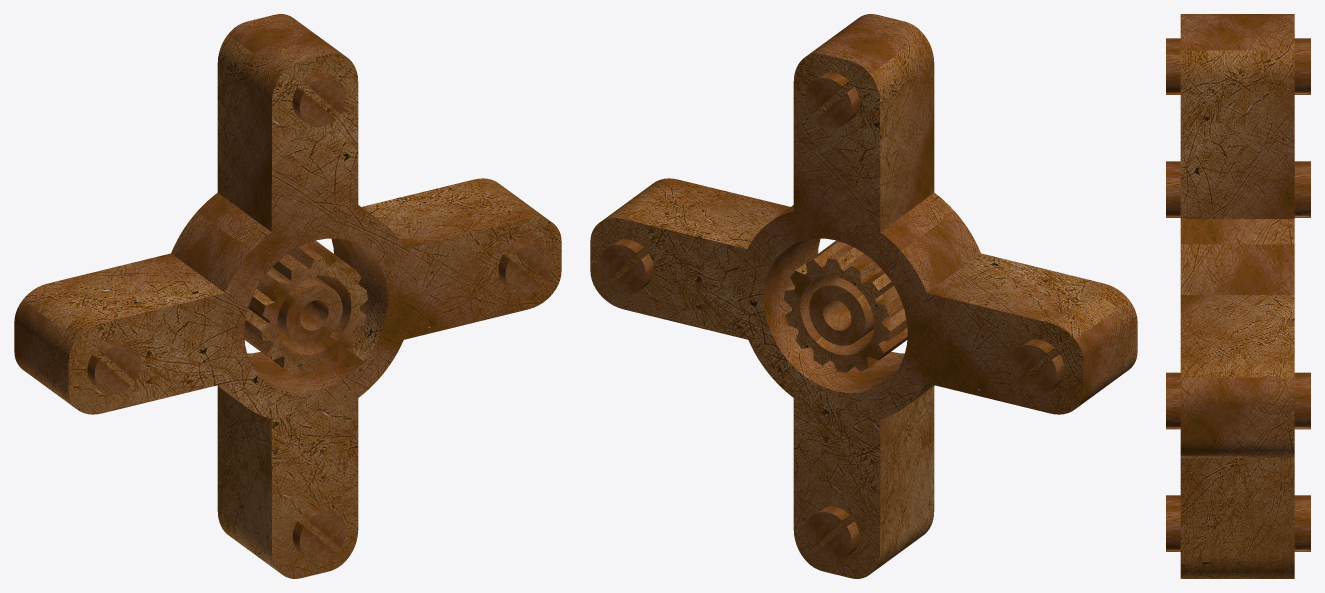
The model's file is Plus.FBX.
The picture shows the model from 3 angles, left to right: view 1: azimuth 30°, elevation 25°; view 2: azimuth 150°, elevation 25°; view 3: azimuth 270°, elevation 25°; orthographic projection. The views are drawn at different scales.
Visible parts, largest first — view 1: Plus005, Cogwheel_387, Screw_739, Screw_748, Screw_731, Screw_746; view 2: Plus005, Cogwheel_387, Screw_731, Screw_746, Screw_739, Screw_748; view 3: Plus005, Screw_731, Screw_748, Screw_746, Screw_739.
Part boxes in pixels (x1=…): Plus005: x1=14, y1=14, x2=561, y2=578; Cogwheel_387: x1=244, y1=240, x2=367, y2=372; Screw_739: x1=292, y1=506, x2=346, y2=561; Screw_748: x1=87, y1=339, x2=141, y2=394; Screw_731: x1=498, y1=239, x2=551, y2=294; Screw_746: x1=292, y1=72, x2=346, y2=127; Plus005: x1=590, y1=14, x2=1137, y2=578; Cogwheel_387: x1=783, y1=240, x2=907, y2=372; Screw_731: x1=599, y1=239, x2=653, y2=294; Screw_746: x1=805, y1=72, x2=859, y2=127; Screw_739: x1=805, y1=506, x2=859, y2=561; Screw_748: x1=1010, y1=339, x2=1064, y2=394; Plus005: x1=1180, y1=14, x2=1294, y2=578; Screw_731: x1=1166, y1=372, x2=1310, y2=429; Screw_748: x1=1166, y1=161, x2=1310, y2=217; Screw_746: x1=1166, y1=38, x2=1310, y2=94; Screw_739: x1=1166, y1=495, x2=1310, y2=551.
Bounding box in the file's own units: 53.3 × 53.42 × 12.89.
Materials: 1 (1 with a texture image).
